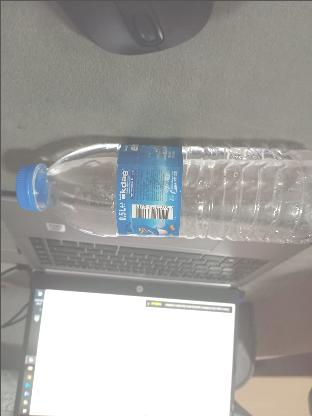Plastic Bottle: (18, 136, 312, 244)
